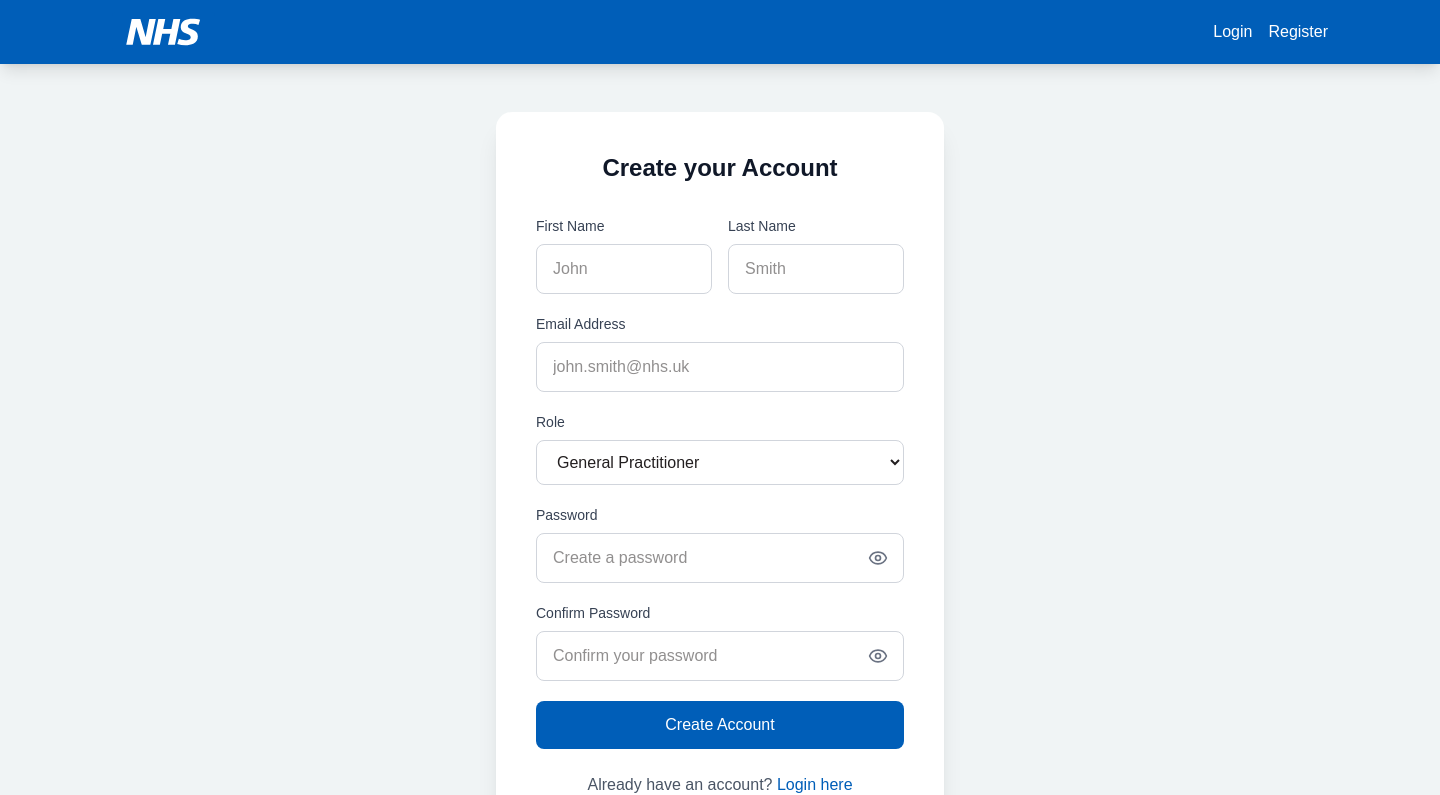
Test: RegisterPage › shows specialty field when specialist role is selected
This screenshot has width=1440, height=795.
Select "Specialist" in the dropdown labelled "Role" at (720, 462), box [536,440,904,485]
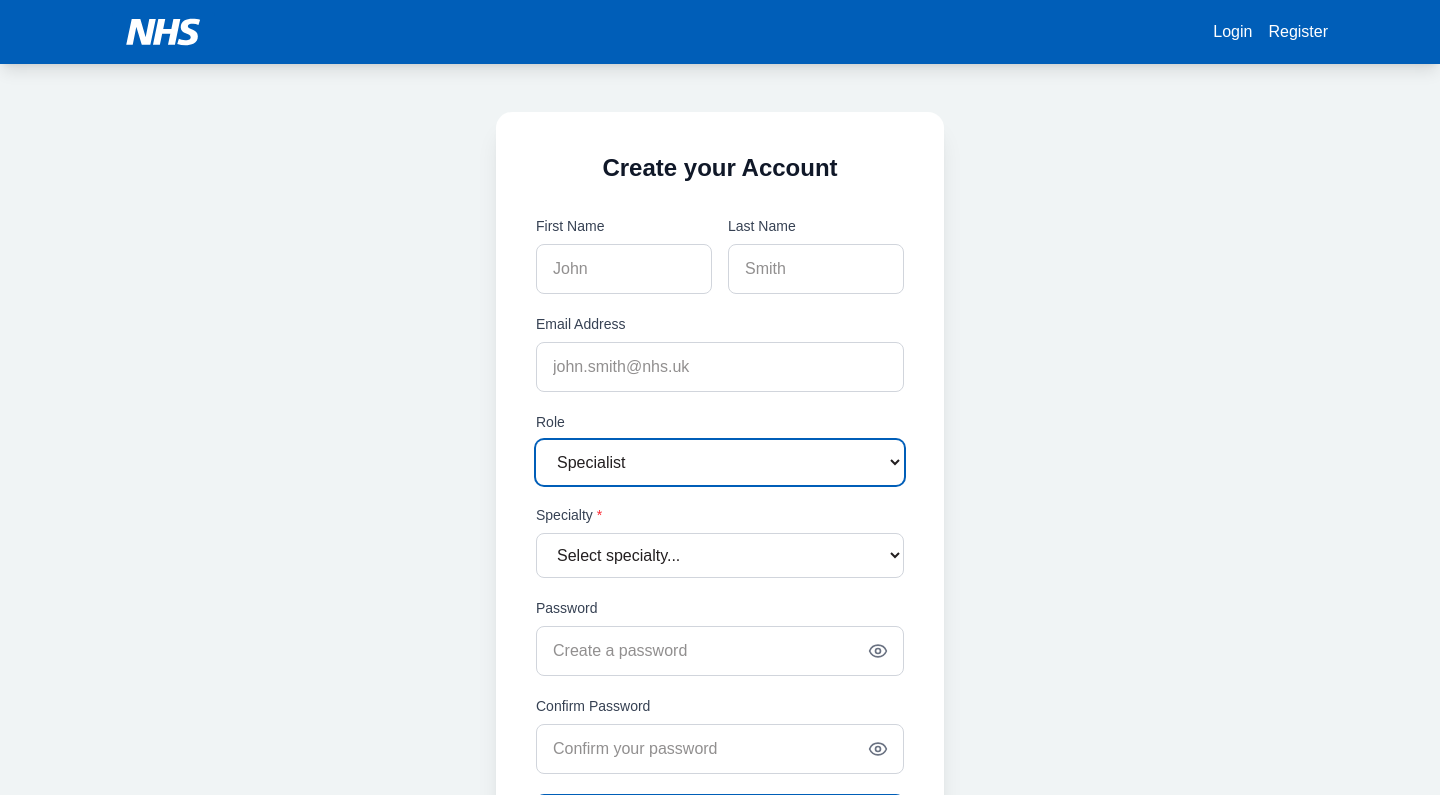
Expected: the dropdown labelled "Specialty *" is shown, [536,533,904,578]
